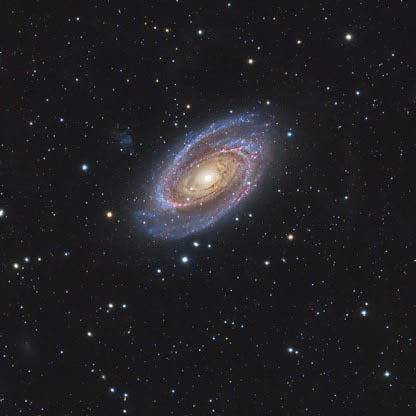Messier 81: (131, 105, 289, 267)
